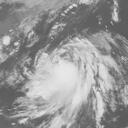cyclone: (28, 52, 86, 107)
